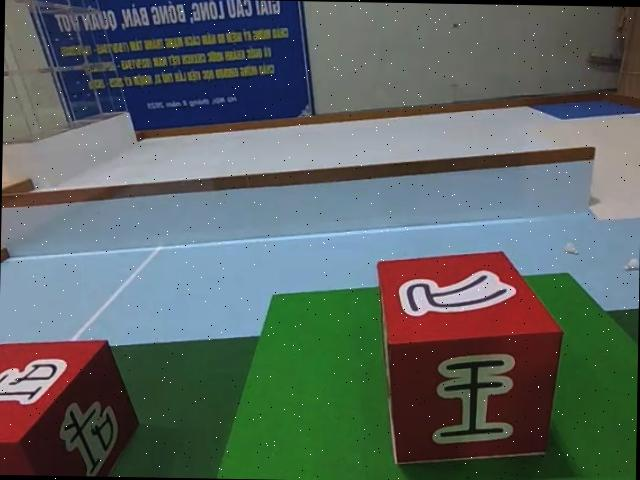R2 Fake: (368, 244, 570, 470)
R2 Real: (0, 332, 144, 477)
